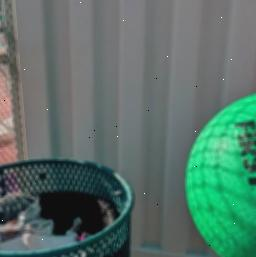algae: (183, 85, 256, 257)
